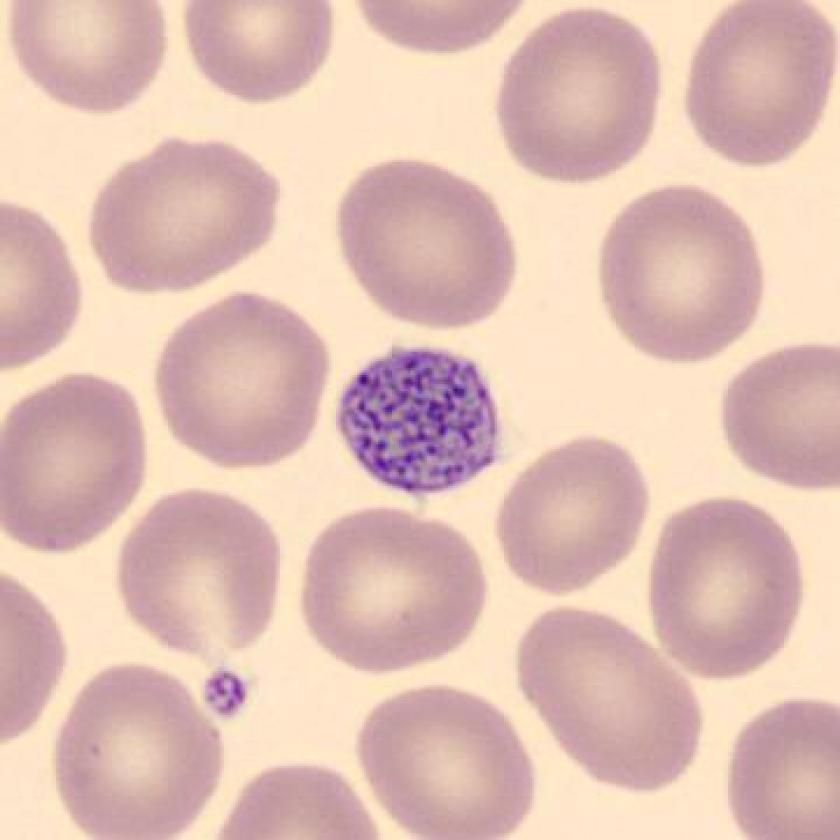platelets: (328, 344, 517, 506), (202, 665, 255, 725)
